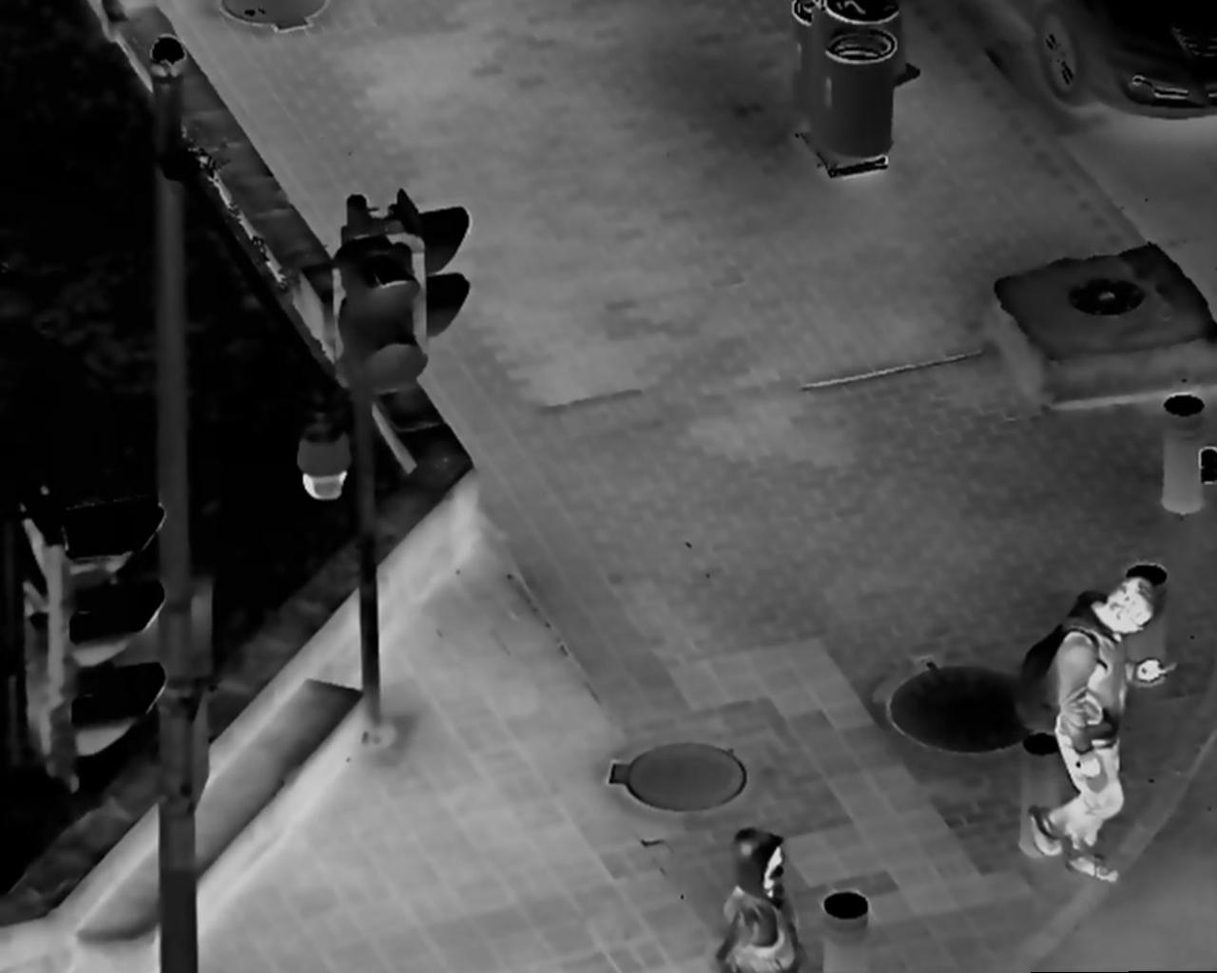person: (1017, 542, 1181, 896), (706, 816, 808, 973)
